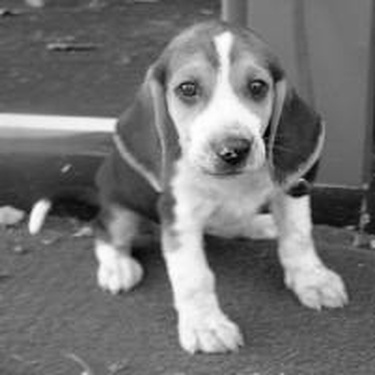dog: (18, 12, 355, 365)
